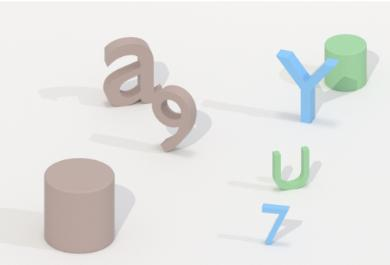0-KhoiTru: (40, 154, 119, 260), (320, 30, 372, 98)
7: (258, 199, 293, 248)
9: (150, 83, 200, 156)
U: (268, 142, 315, 194)
Y: (273, 45, 342, 128)
a: (100, 34, 164, 109)
